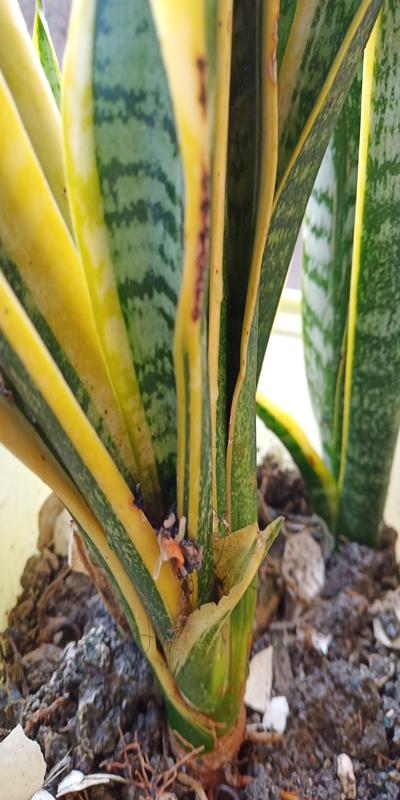Snake plant: (27, 7, 382, 651)
